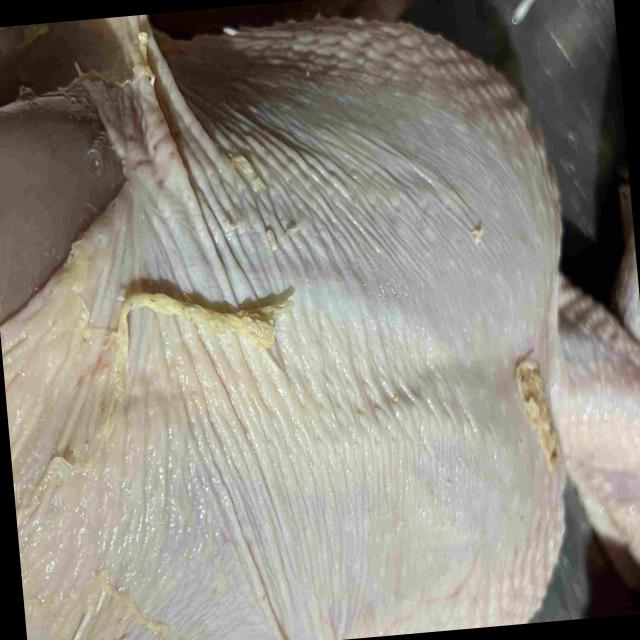breast: (0, 9, 564, 640)
neck: (543, 266, 640, 567)
